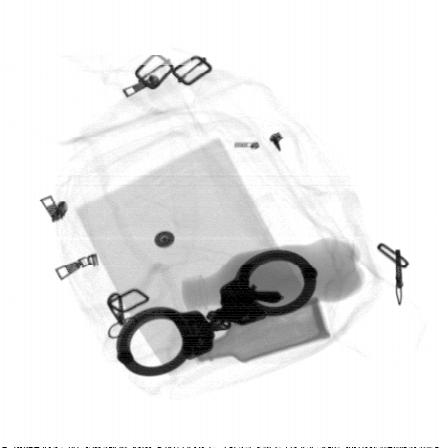Gun: (208, 282, 284, 326)
HandCuffs: (110, 249, 320, 378)
